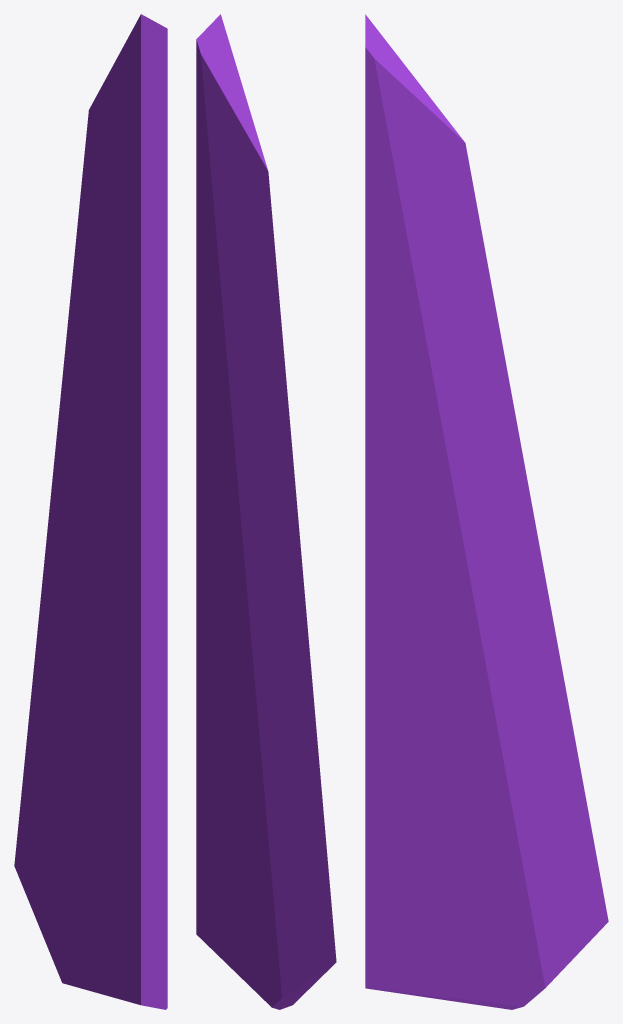
Rendered from Glass_77_18_chunks.fbx.
3 renders of one model, left to right at view 1: azimuth 30°, elevation 25°; view 2: azimuth 210°, elevation 25°; view 3: azimuth 270°, elevation 25°, orthographic. The views are drawn at different scales.
Parts seen in each view (by area): view 1: Glass_77_18_1, Glass_77_18_6, Glass_77_18_5, Glass_77_18_2, Glass_77_18_3, Glass_77_18_4, Glass_77_18_0; view 2: Glass_77_18_1, Glass_77_18_6, Glass_77_18_5, Glass_77_18_3, Glass_77_18_4, Glass_77_18_2; view 3: Glass_77_18_1, Glass_77_18_6, Glass_77_18_5, Glass_77_18_3, Glass_77_18_4, Glass_77_18_2.
Part boxes in pixels (left/top/right/bottom): Glass_77_18_1: left=14, top=636, right=167, bottom=1009; Glass_77_18_6: left=85, top=14, right=167, bottom=480; Glass_77_18_5: left=39, top=419, right=132, bottom=640; Glass_77_18_2: left=104, top=542, right=167, bottom=818; Glass_77_18_3: left=58, top=151, right=99, bottom=419; Glass_77_18_4: left=120, top=446, right=167, bottom=564; Glass_77_18_0: left=37, top=617, right=105, bottom=696; Glass_77_18_1: left=196, top=673, right=336, bottom=1009; Glass_77_18_6: left=196, top=14, right=271, bottom=434; Glass_77_18_5: left=220, top=474, right=313, bottom=706; Glass_77_18_3: left=226, top=214, right=296, bottom=494; Glass_77_18_4: left=196, top=420, right=240, bottom=613; Glass_77_18_2: left=196, top=516, right=233, bottom=745; Glass_77_18_1: left=365, top=678, right=608, bottom=1009; Glass_77_18_6: left=365, top=14, right=472, bottom=447; Glass_77_18_5: left=414, top=461, right=561, bottom=685; Glass_77_18_3: left=428, top=185, right=523, bottom=470; Glass_77_18_4: left=365, top=439, right=454, bottom=632; Glass_77_18_2: left=365, top=548, right=443, bottom=789.
Size of the model in its own units: 27.2 by 1006 by 224.
